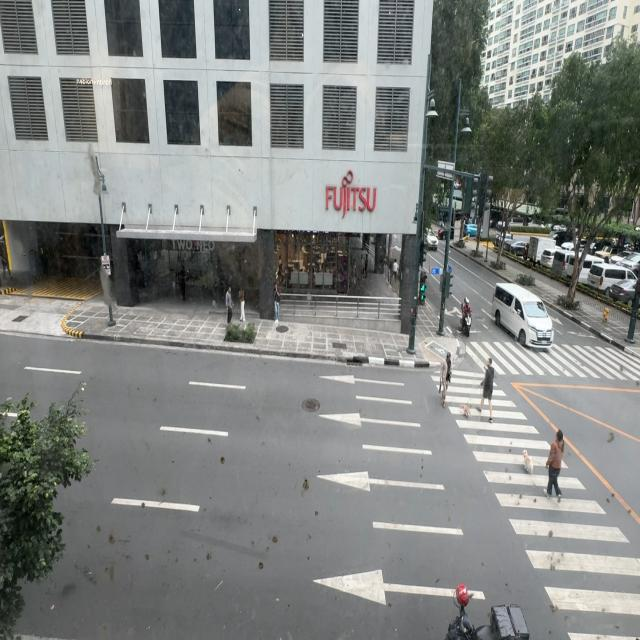crossing: (544, 430, 565, 500), (438, 352, 455, 409), (479, 358, 494, 420)
pedestrain: (225, 285, 234, 325), (238, 288, 246, 323), (274, 284, 280, 322), (392, 259, 398, 283)
